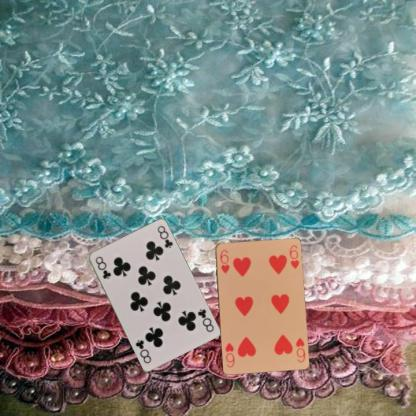6h: (217, 247, 231, 274), (293, 335, 306, 364)
8c: (195, 306, 215, 334), (93, 254, 112, 280)
